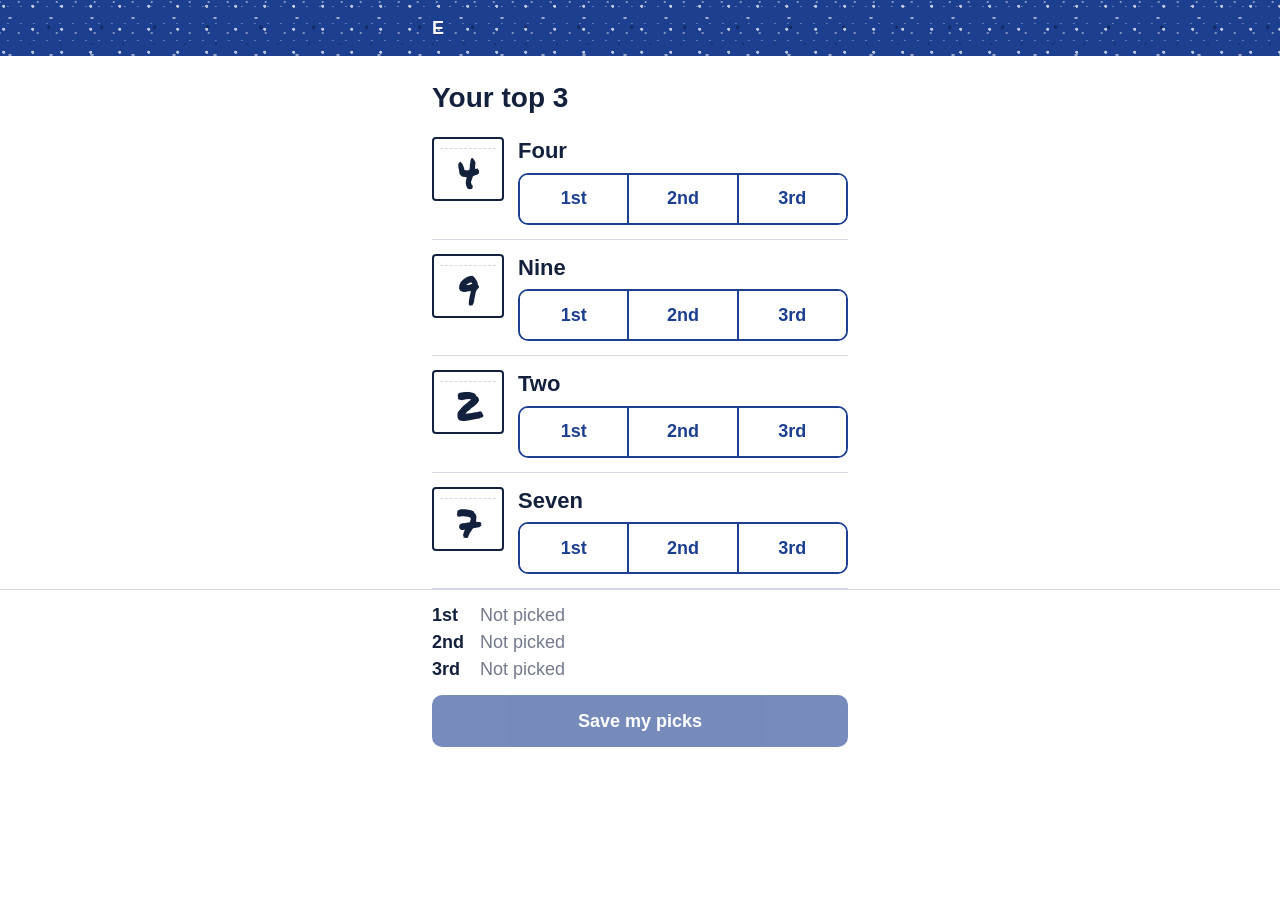
Test case: ballot screen › keeps pending when the save fails with no_voter
Expected: the picture named "Pot 4" is shown, 456,145 -> 480,193
Step 1. Click the button "1st" below "Four" → {"x": 575, "y": 198}, box 520,174 -> 629,222
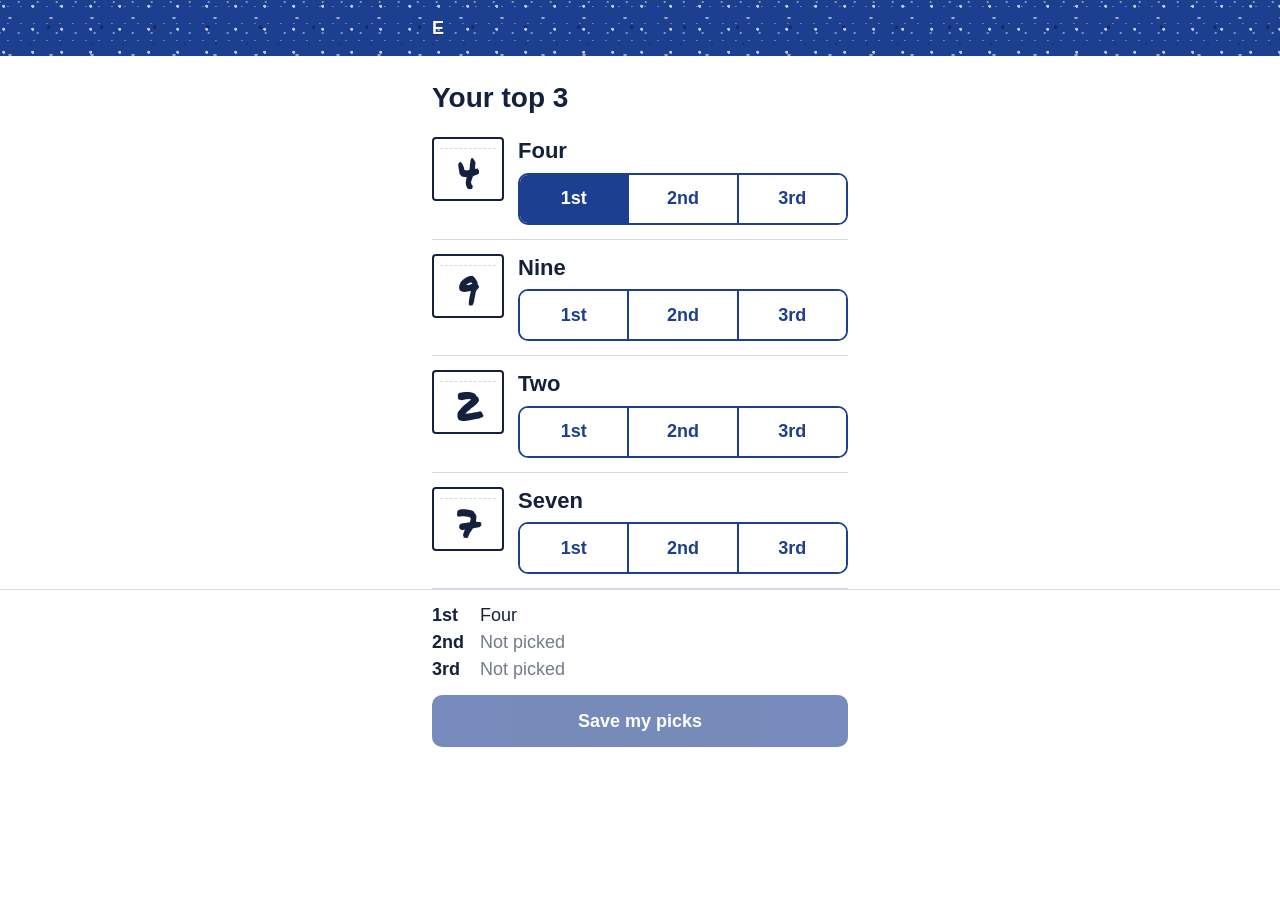
Step 2. Click the button "2nd" below "Nine" → {"x": 684, "y": 315}, box 629,291 -> 739,339
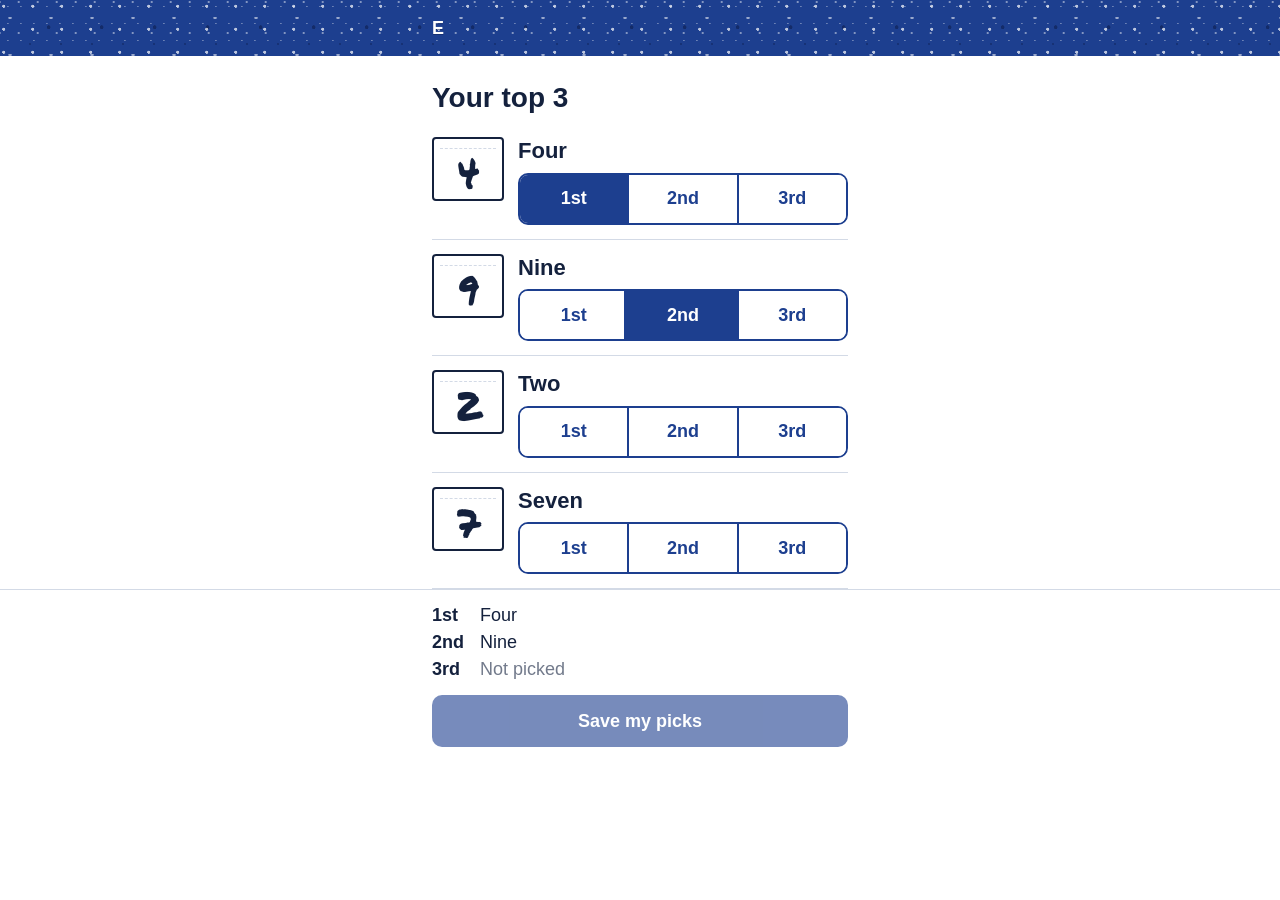
Step 3. Click the button "3rd" below "Two" → {"x": 792, "y": 432}, box 739,408 -> 846,456
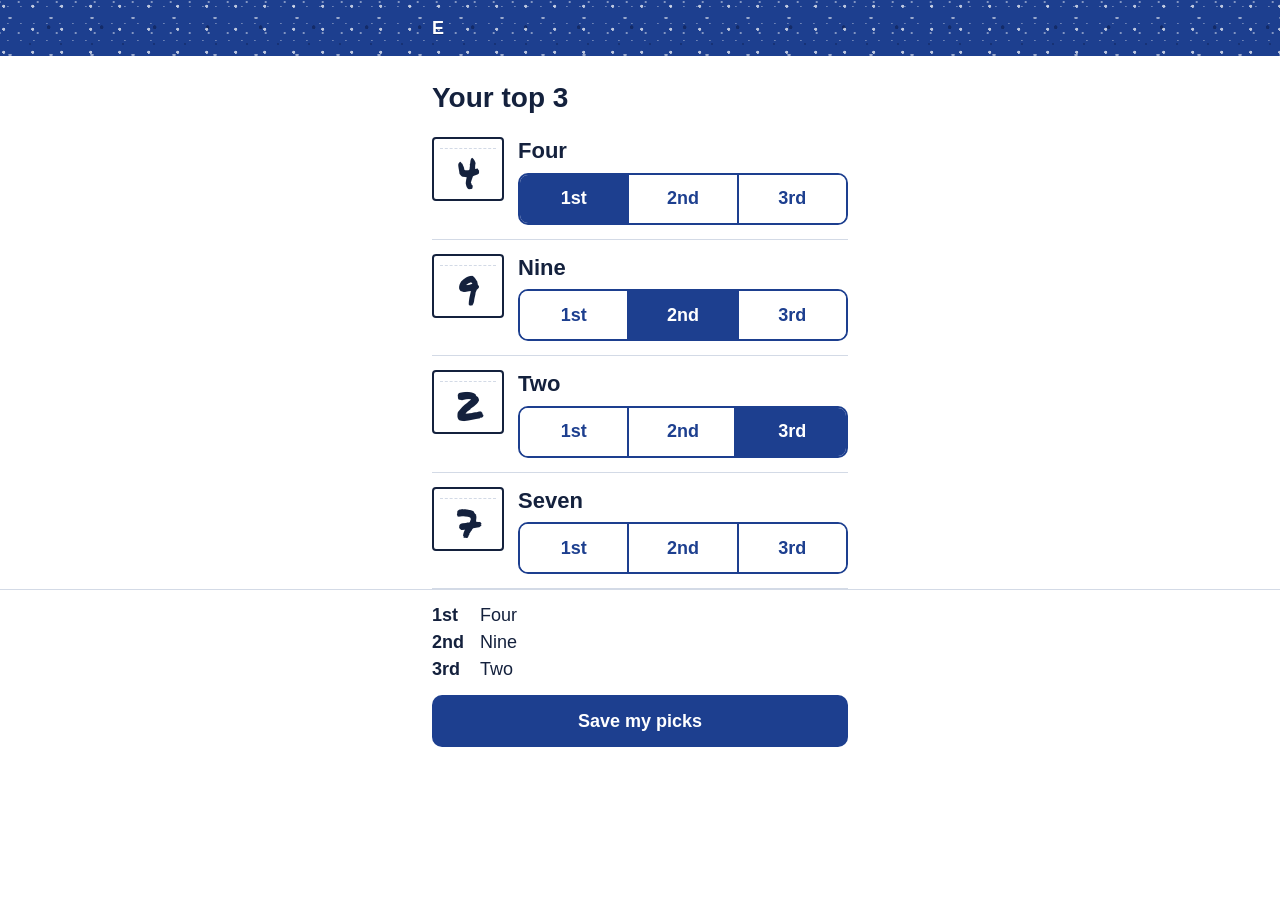
Step 4. Click the button "Save my picks" → {"x": 640, "y": 721}, box 432,695 -> 848,747
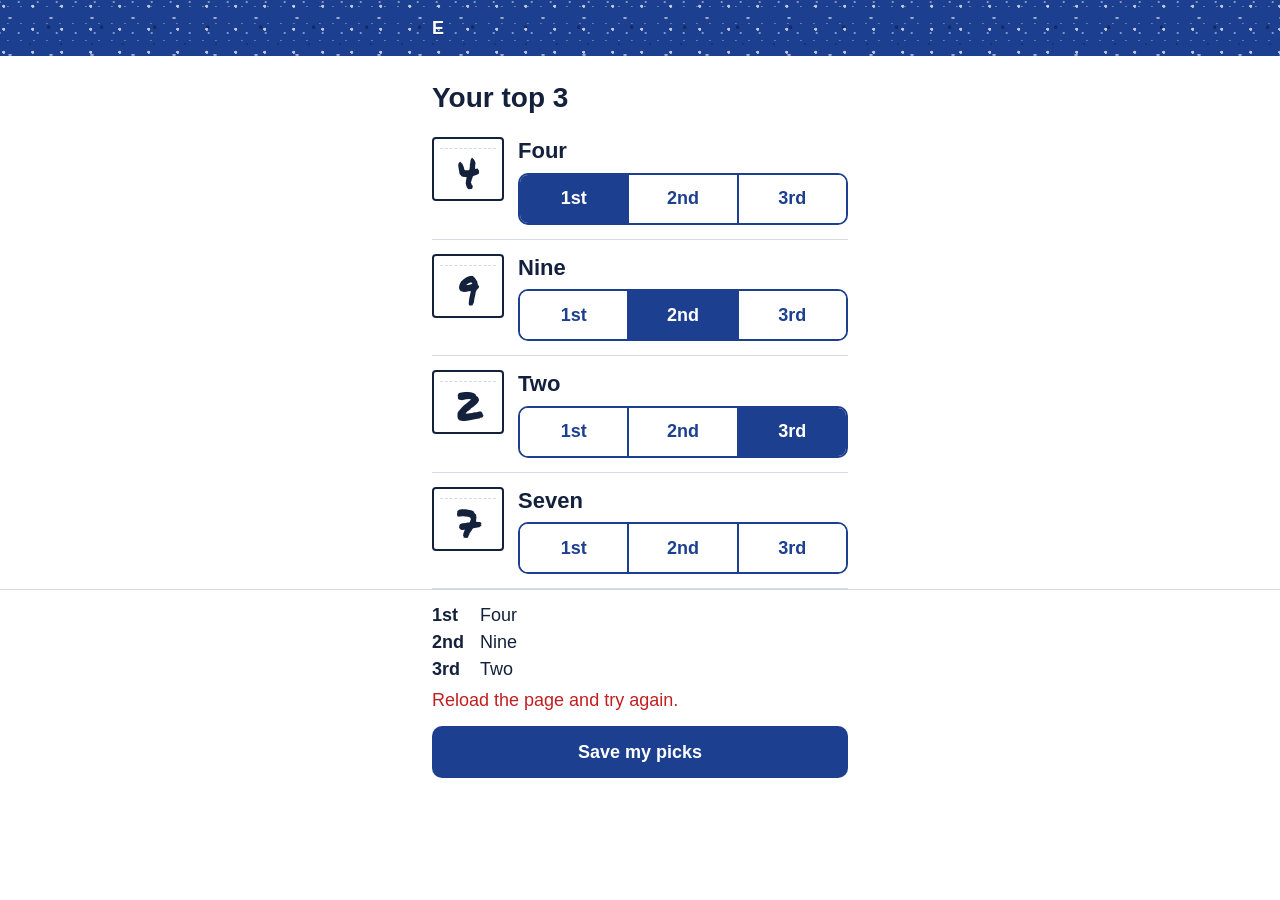
Result: the text "Reload the page and try again." is shown at 432,690 -> 678,710
